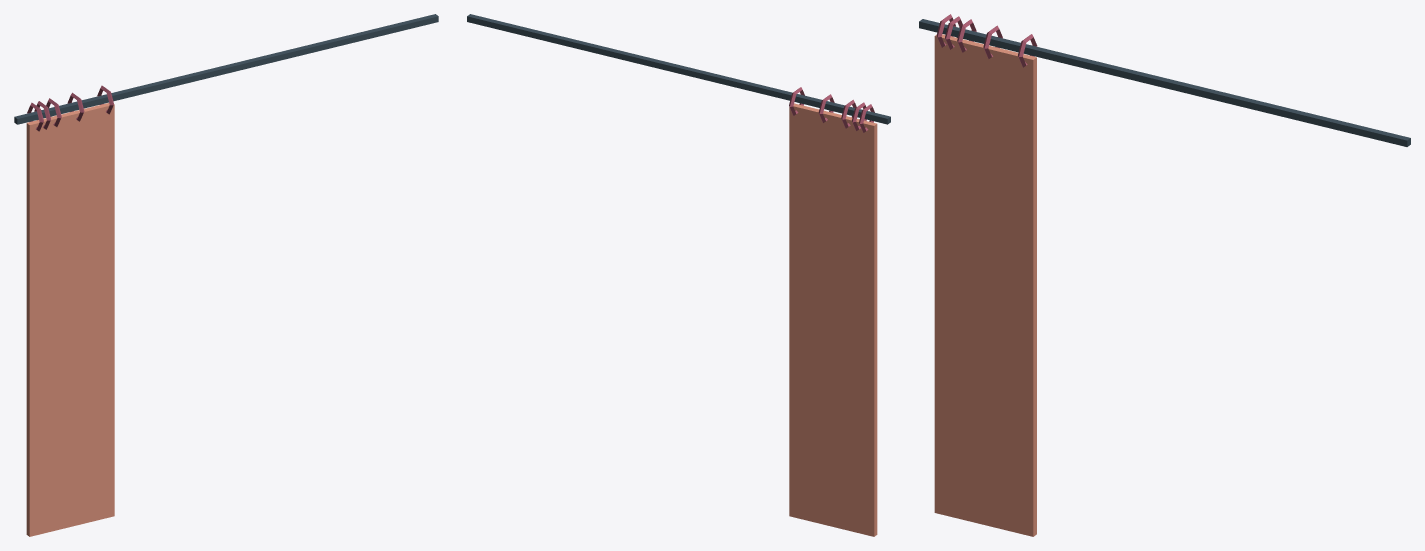
Rendered from showercurtain_open.fbx.
3 renders of one model, left to right at view 1: azimuth 30°, elevation 25°; view 2: azimuth 150°, elevation 25°; view 3: azimuth 330°, elevation 25°, orthographic. The views are drawn at different scales.
Visible parts, largest first — view 1: pCube3, pCube2; view 2: pCube3, pCube2; view 3: pCube3, pCube2.
Part boxes in pixels (<box>): pCube3: <box>26,103,114,536</box>; pCube2: <box>14,14,438,124</box>; pCube3: <box>789,103,877,536</box>; pCube2: <box>467,14,890,124</box>; pCube3: <box>934,34,1036,536</box>; pCube2: <box>919,19,1410,146</box>.
Size of the model in its own units: 3.86 by 3.75 by 0.24.
